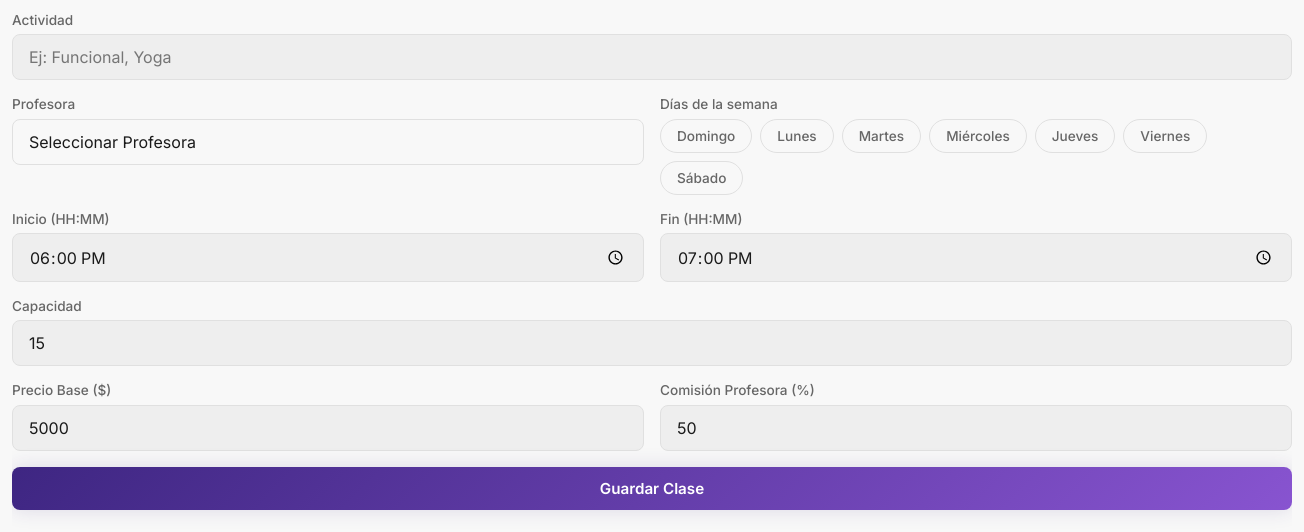
it: ClassForm › Autocomplete dropdown: escribe en actividad, muestra opciones filtradas
Focus the field with placeholder "Ej: Funcional, Yoga". click: (652, 57)
box: [12,34,1292,80]
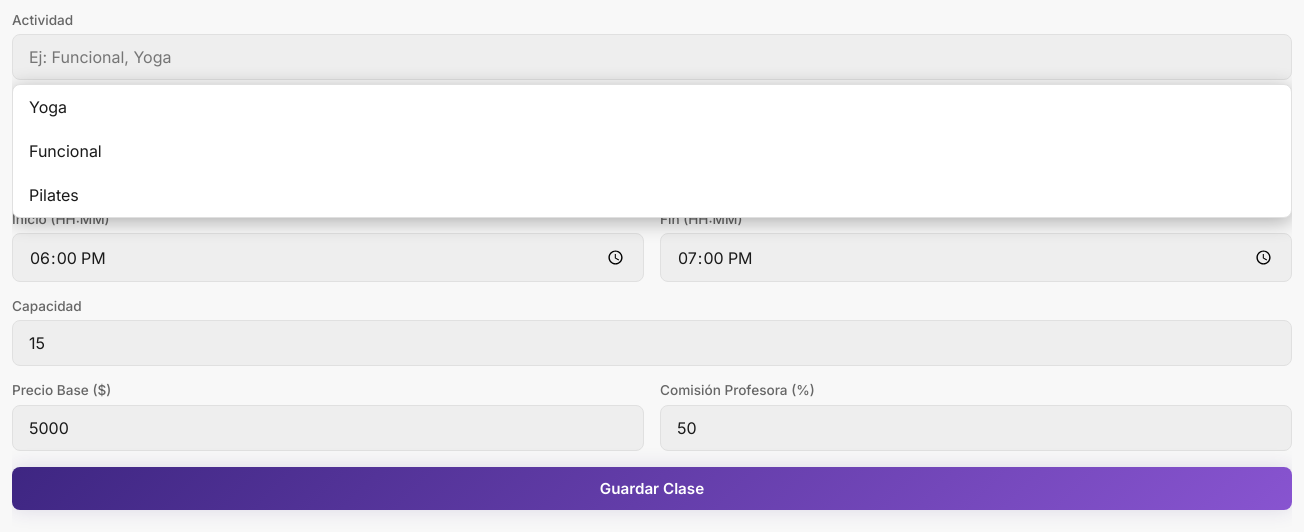
Expected: the text "Yoga" is shown, [29,97,67,117]
Expected: the text "Funcional" is shown, [29,141,102,161]
Expected: the text "Pilates" is shown, [29,185,79,205]
Type "Yo" into the field with placeholder "Ej: Funcional, Yoga". click: (652, 57)
box: [12,34,1292,80]
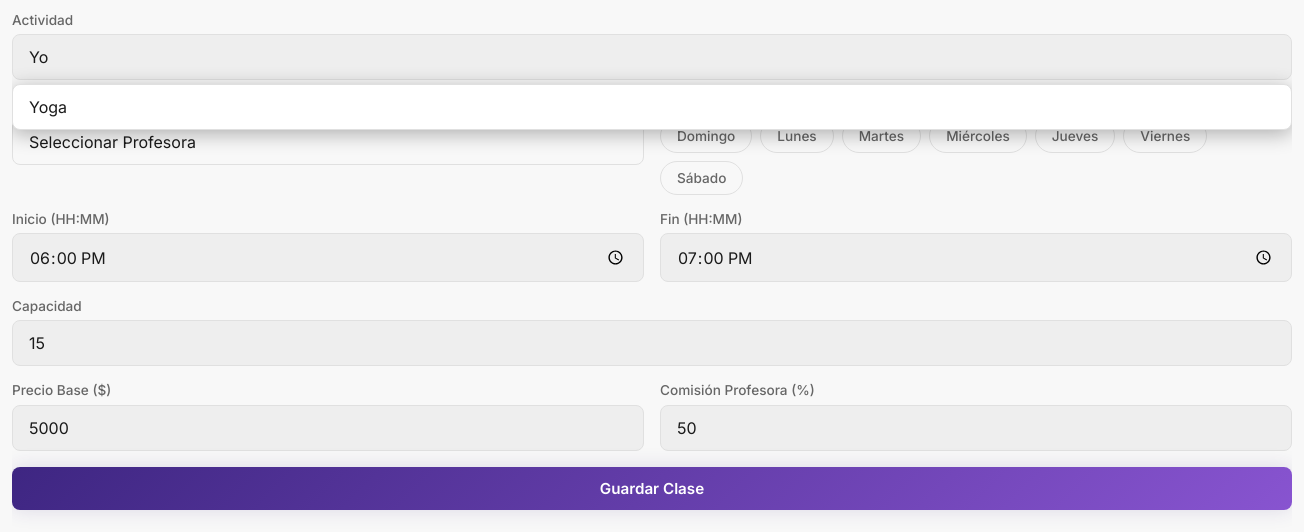
Expected: the text "Yoga" is shown, [29,97,67,117]
Expected: the text "Funcional" is gone
Expected: the text "Pilates" is gone
